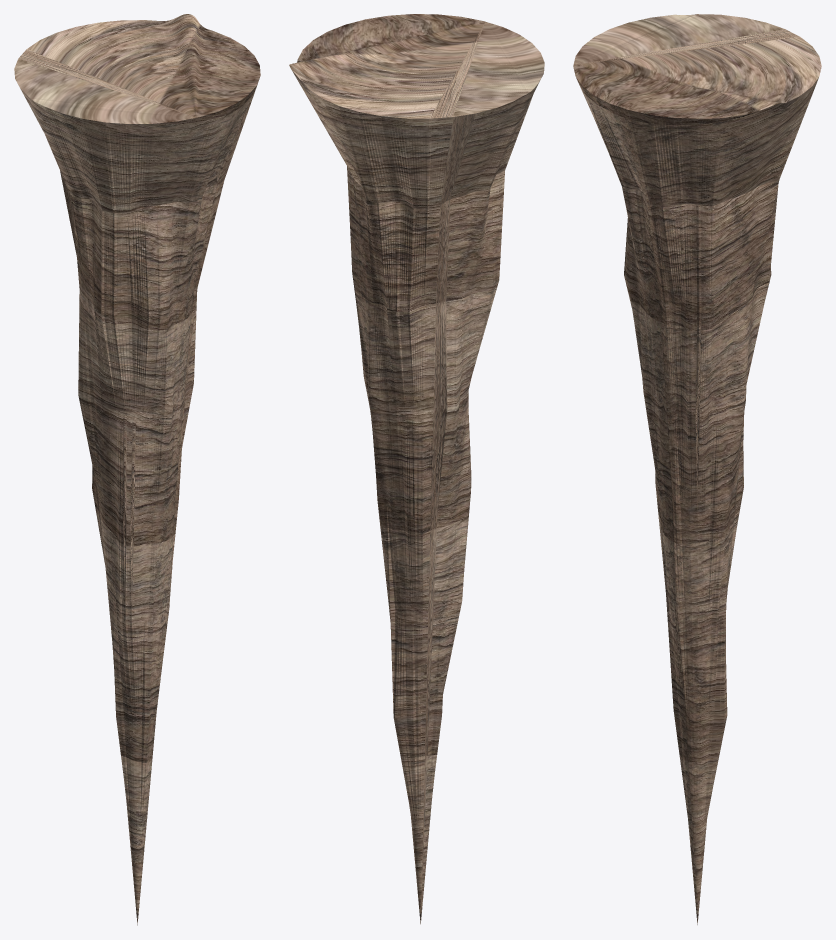
File: Stalagmite.obj
3 views of the same model, side by side, from view 1: azimuth 30°, elevation 25°; view 2: azimuth 150°, elevation 25°; view 3: azimuth 270°, elevation 25° (orthographic).
Parts seen in each view (by area): view 1: Cone; view 2: Cone; view 3: Cone.
Boxes of the visible parts, box(x1,y1,x2,y2) form: Cone: box(14, 14, 260, 925); Cone: box(289, 14, 544, 924); Cone: box(573, 14, 821, 924).
Bounding box in the file's own units: 1.61 × 6.2 × 1.61.
1 material, 1 textured.
